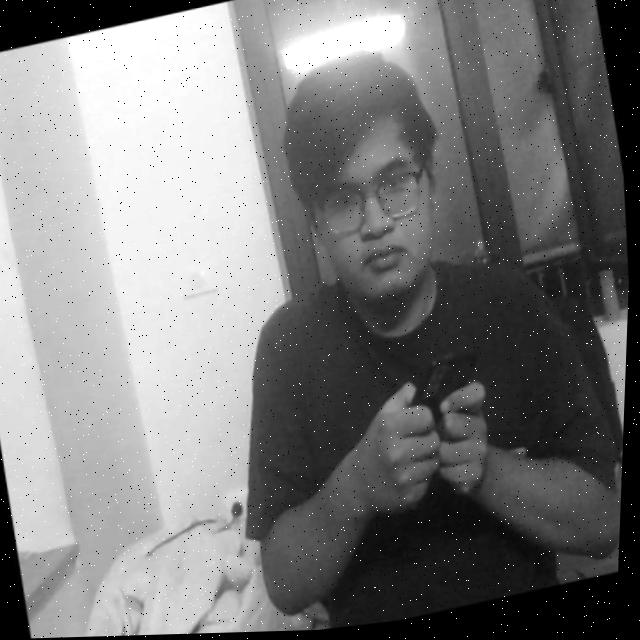phone: (392, 339, 495, 453)
